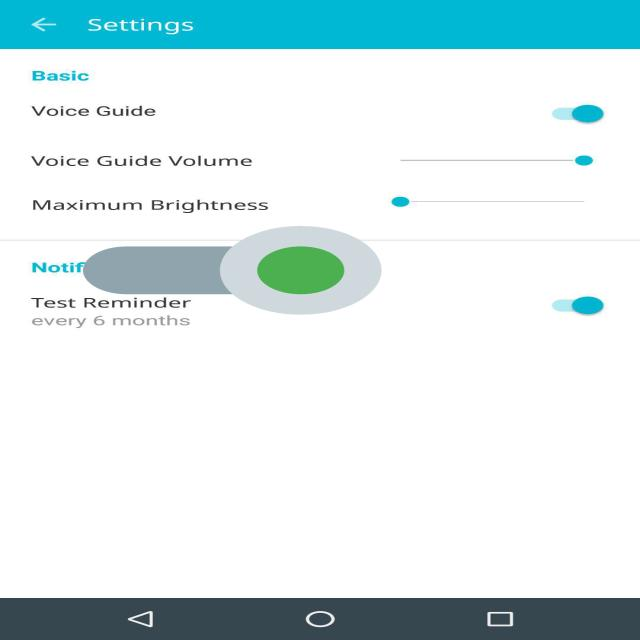social proof: (83, 188, 382, 352)
